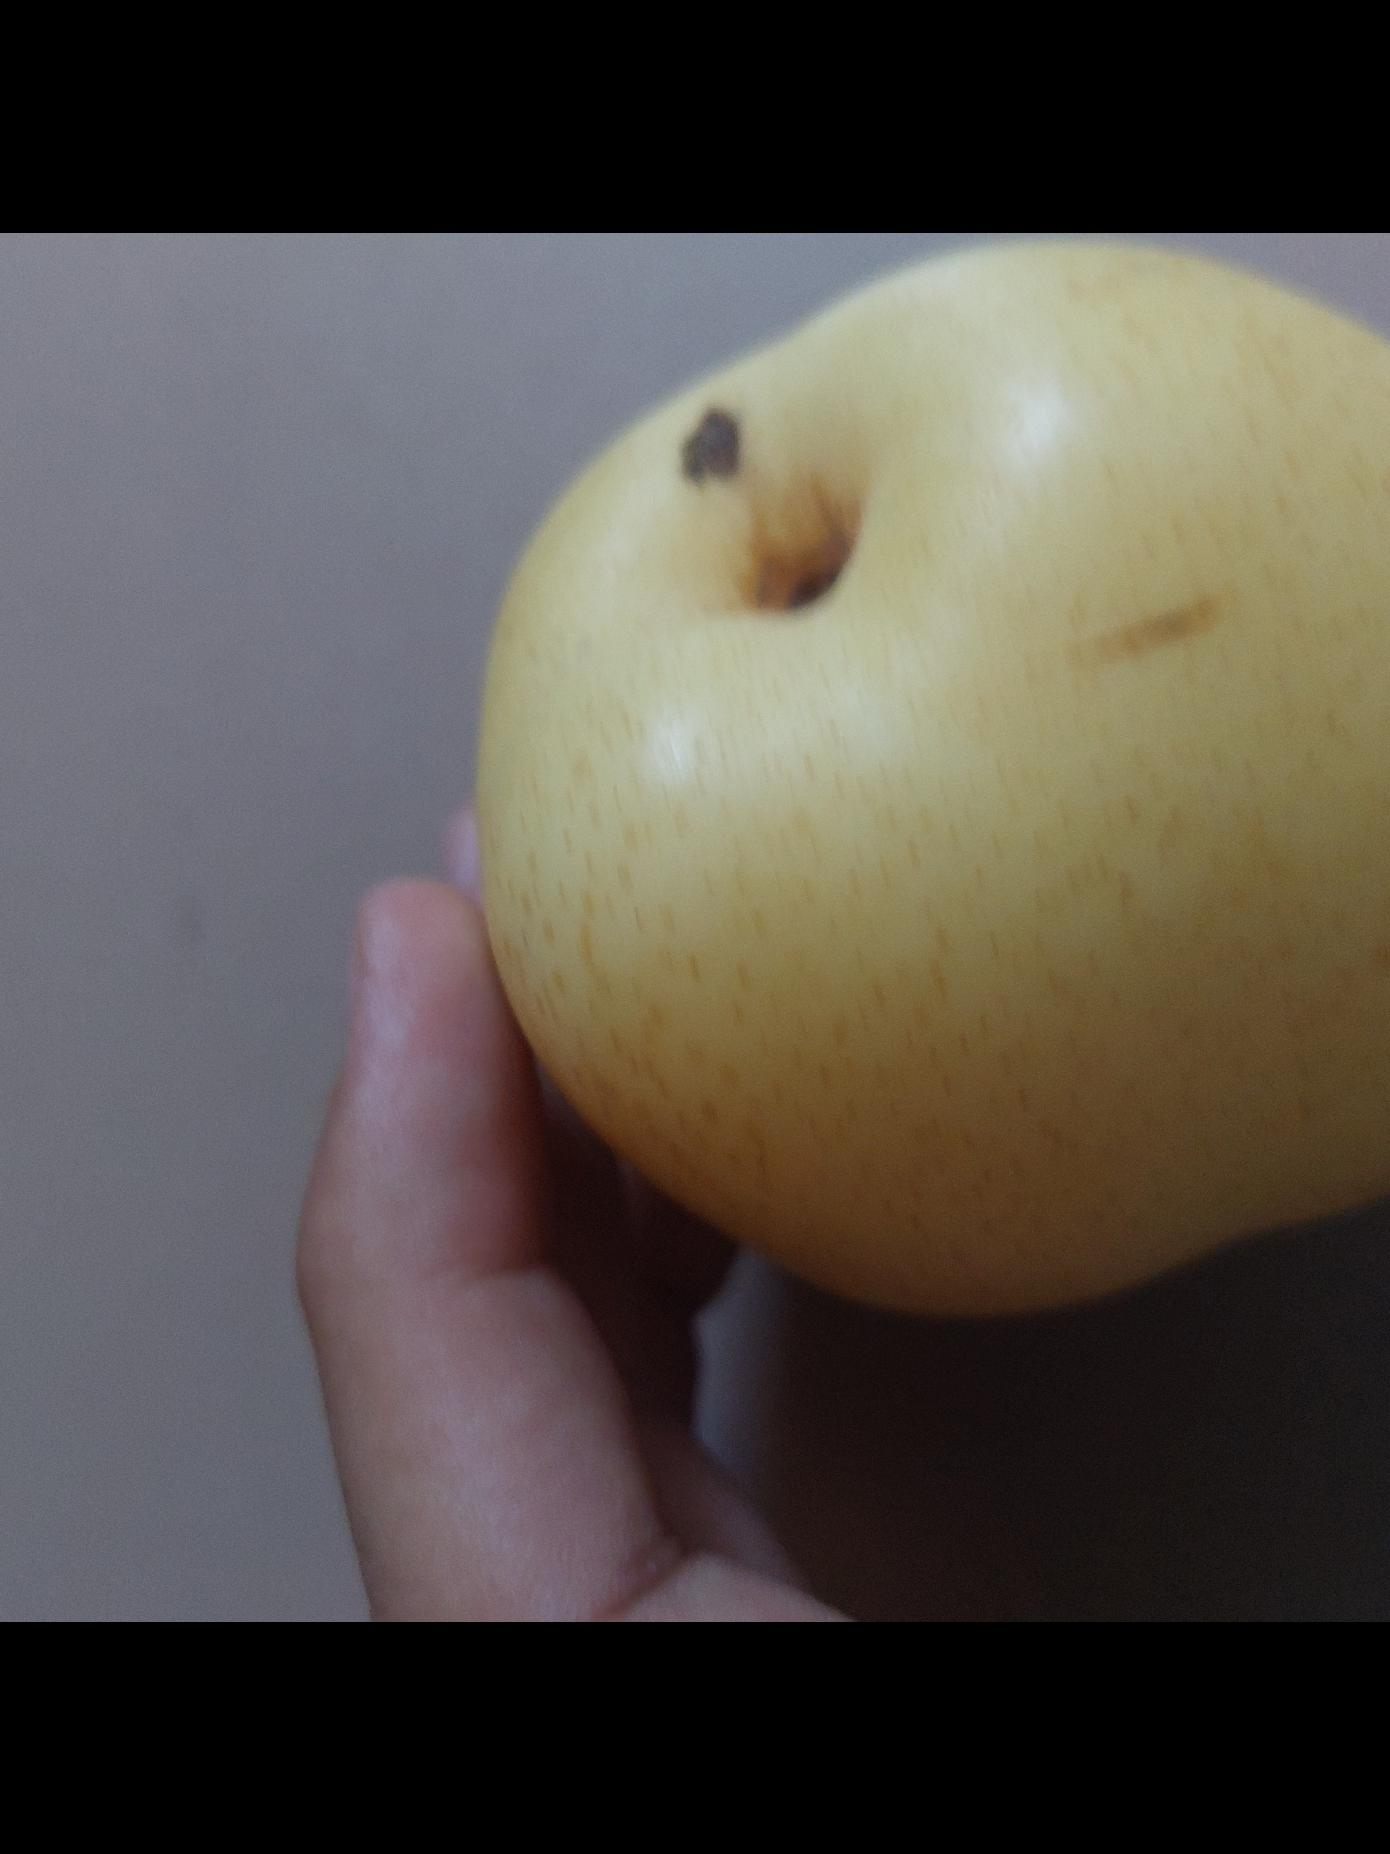Good Pear: (440, 232, 1390, 1326)
